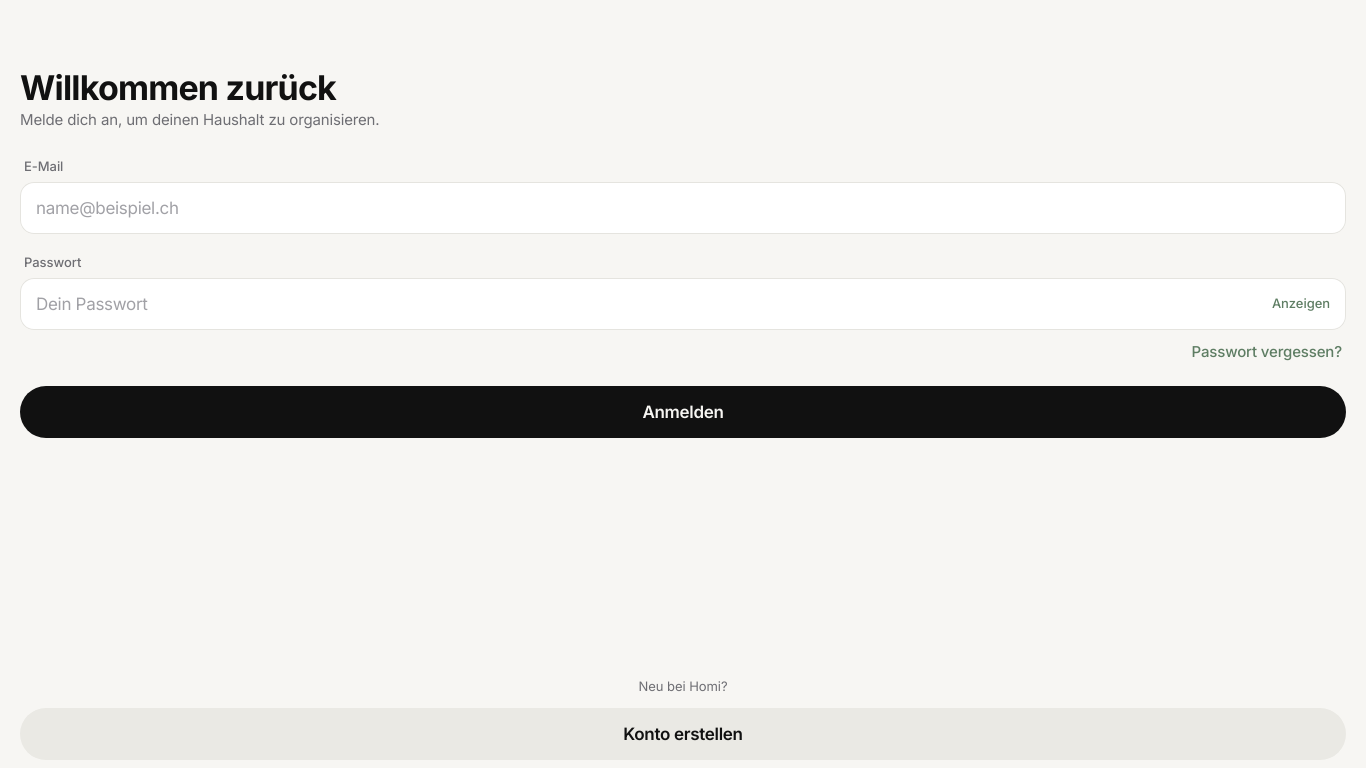
LoginForm › shows and hides the password
The width and height of the screenshot is (1366, 768).
In the password field labelled "Passwort": (648, 304) [36, 278, 1260, 330], type "Geheim-12345"
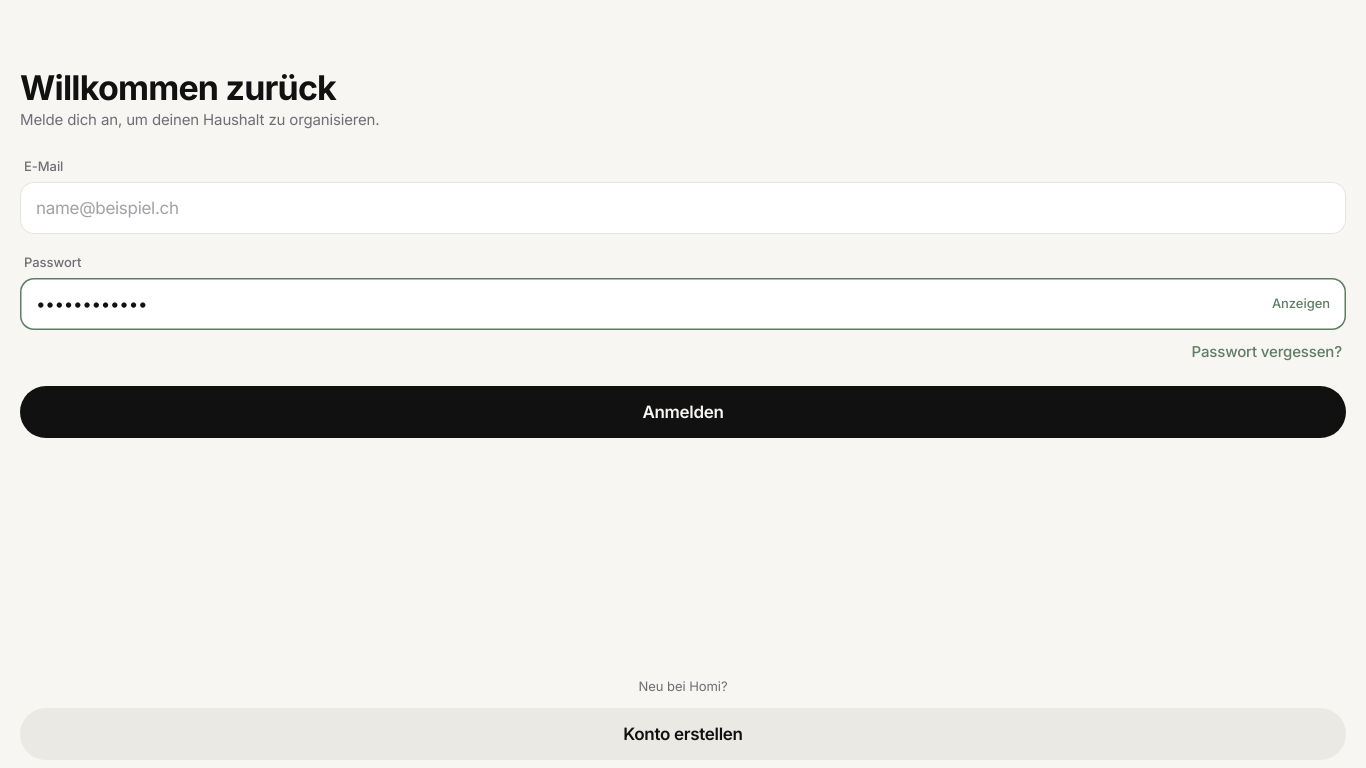
Click the button with aria-label "Passwort anzeigen": click(1301, 304) [1268, 282, 1334, 326]
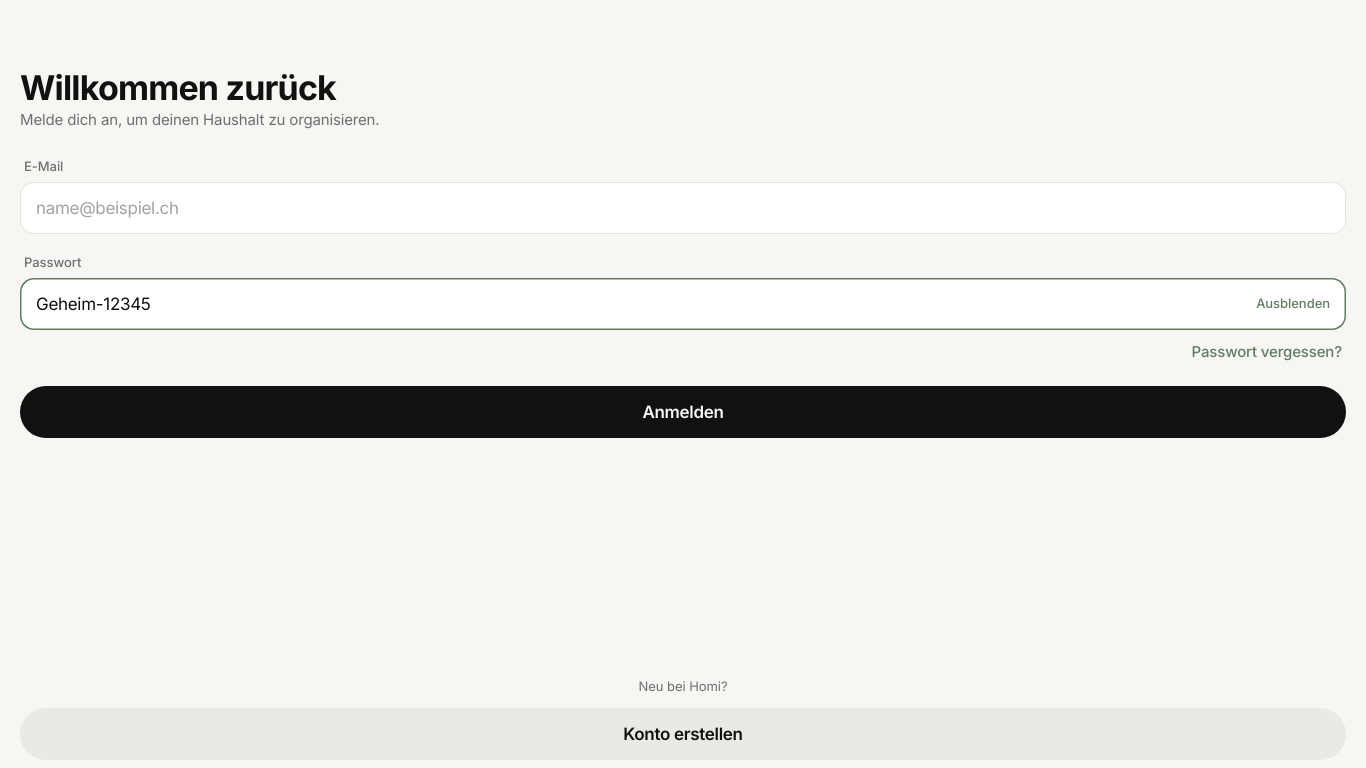
Result: the field labelled "Passwort" shows its text at [36, 278, 1244, 330]
Result: the button with aria-label "Passwort ausblenden" reads "Ausblenden"
Click the button with aria-label "Passwort ausblenden": click(1293, 304) [1252, 282, 1334, 326]
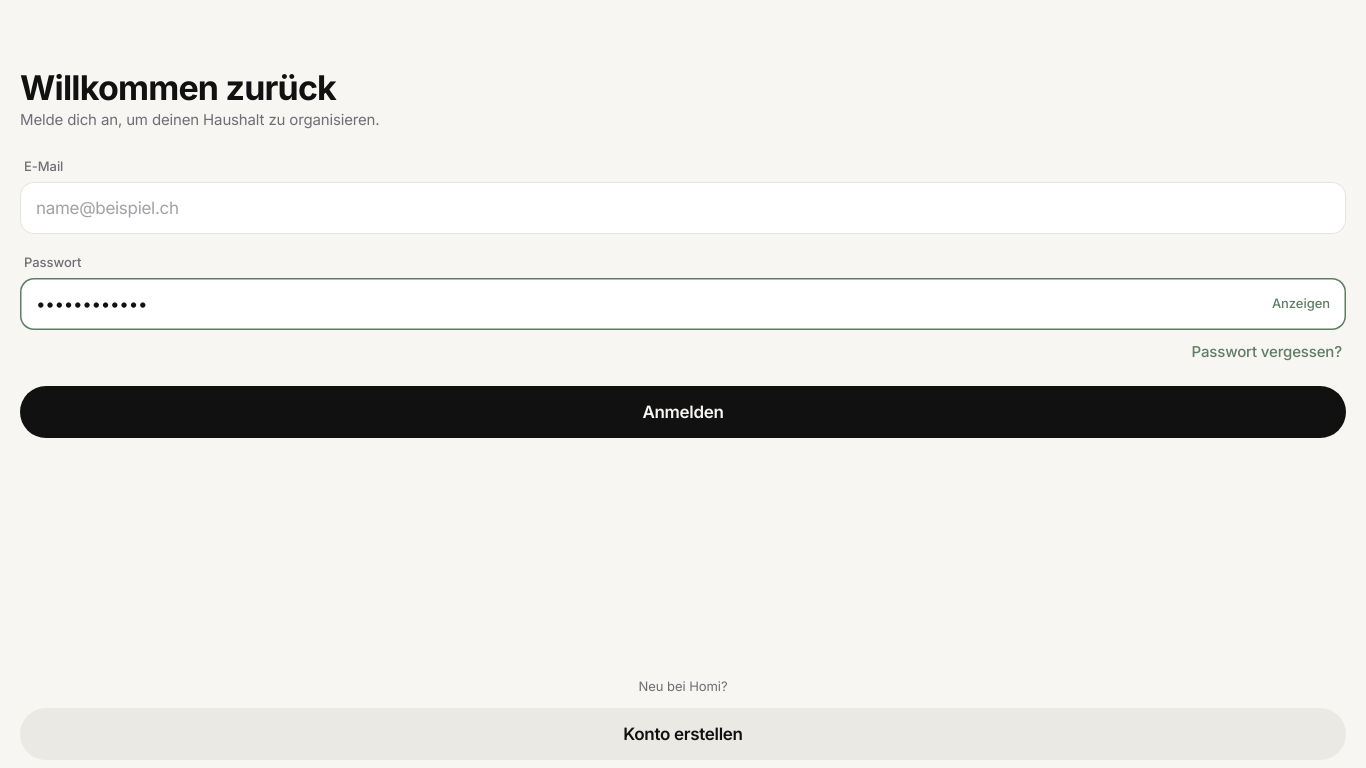
Result: the password field labelled "Passwort" hides its text at [36, 278, 1260, 330]
